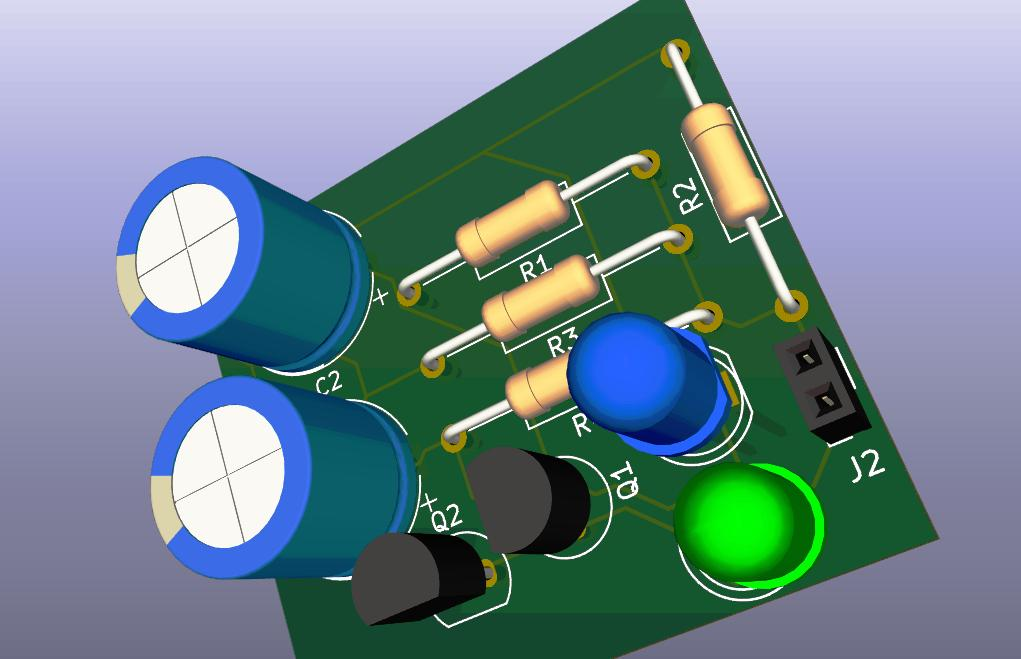blue_led: (566, 313, 726, 455)
capacitor: (114, 155, 367, 372), (151, 373, 413, 581)
green_led: (677, 460, 823, 590)
resistor: (684, 104, 775, 231), (486, 254, 601, 344), (458, 180, 571, 268), (508, 349, 574, 421)
transistor: (462, 440, 590, 553), (352, 530, 491, 628)
